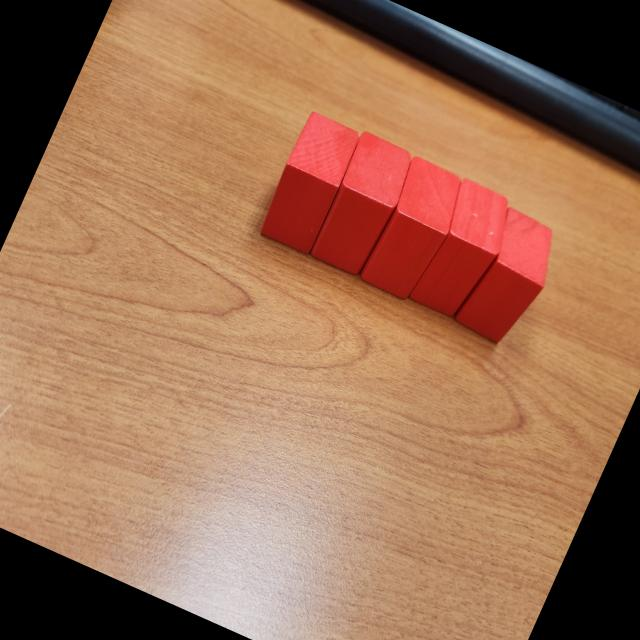red: (356, 152, 473, 306), (407, 174, 522, 324), (306, 129, 420, 280), (452, 204, 569, 350), (254, 110, 364, 258)
